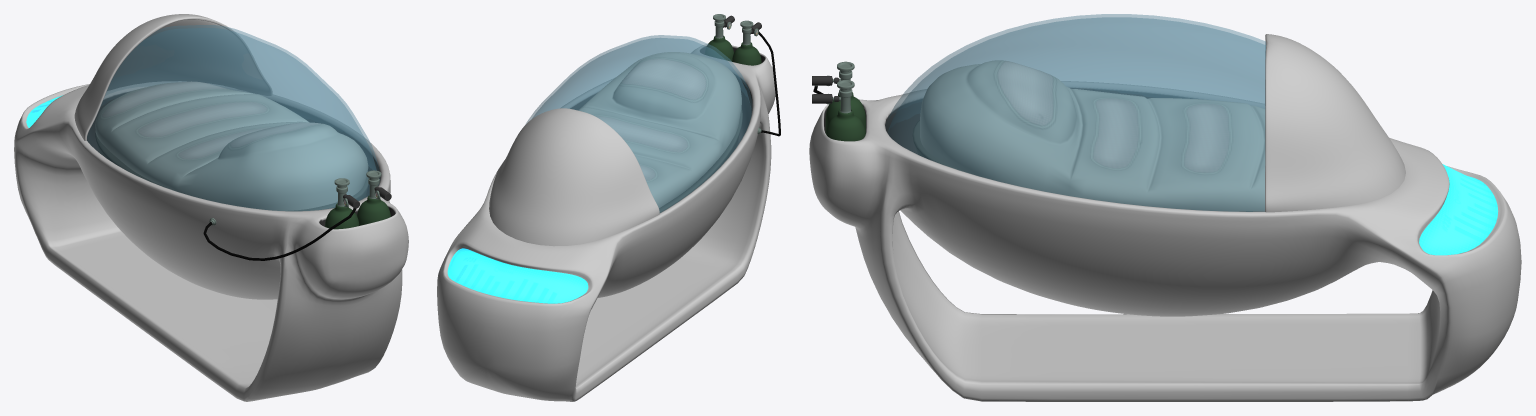
3 views of the same model, side by side, from view 1: azimuth 30°, elevation 25°; view 2: azimuth 150°, elevation 25°; view 3: azimuth 270°, elevation 25° (orthographic). The views are drawn at different scales.
Parts seen in each view (by area): view 1: Bed, Sphere; view 2: Bed, Sphere; view 3: Bed, Sphere.
Boxes of the visible parts, bbox=[...] form: Bed: bbox=[14, 14, 408, 401]; Sphere: bbox=[87, 25, 379, 210]; Bed: bbox=[437, 14, 780, 401]; Sphere: bbox=[525, 35, 751, 212]; Bed: bbox=[809, 34, 1521, 401]; Sphere: bbox=[885, 14, 1266, 211].
Bounding box in the file's own units: 1.29 × 1.66 × 3.13.
Materials: 2 (2 with a texture image).
